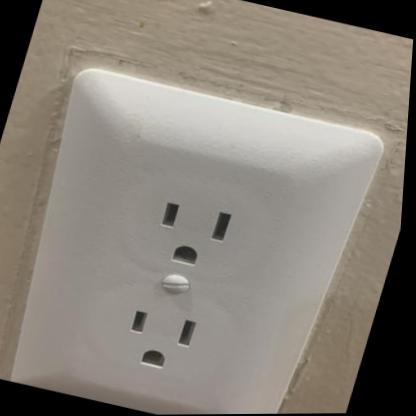OUTLET: (0, 59, 396, 416)
